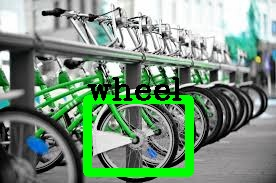wheel: (87, 99, 189, 172)
